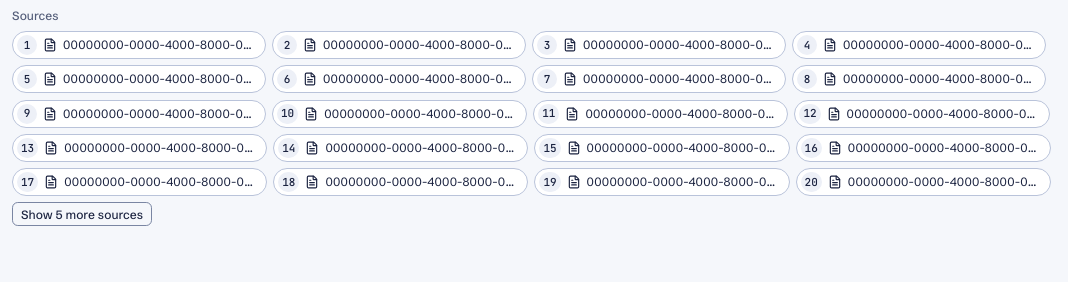
Test: RetrievalCitations › pages long source lists
Click the button "Show 5 more sources" at (82, 214), box left=12, top=202, right=152, bottom=226
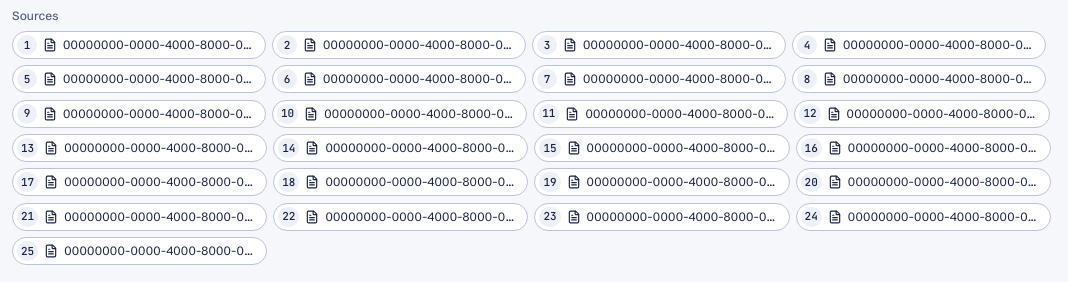
Now the button "more sources" is gone
